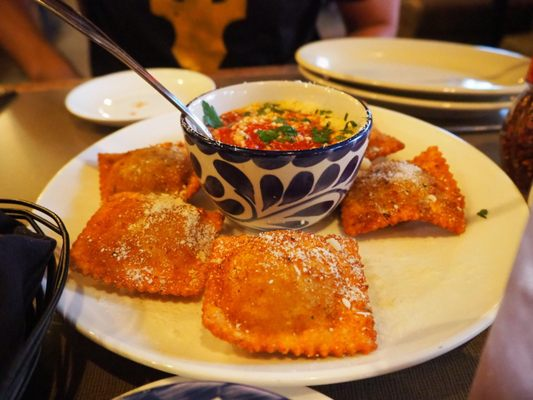salad: (31, 0, 215, 138)
sushi: (178, 79, 374, 230)
